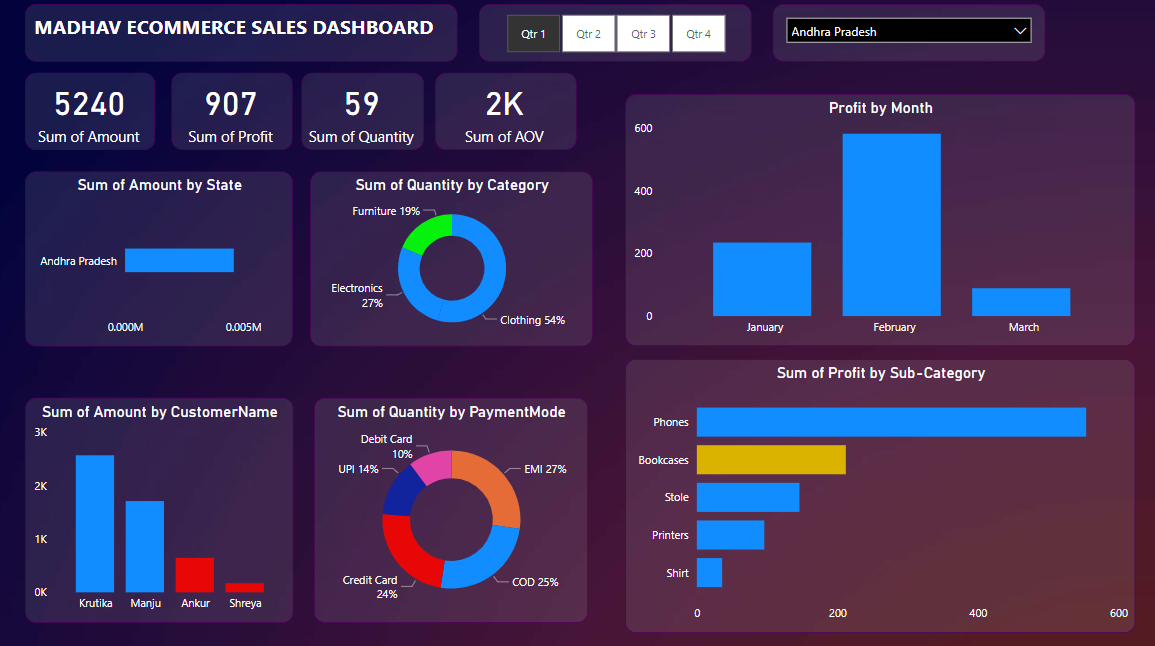

The dashboard page shown, as its layout file describes it:
{"tool":"powerbi","page":{"name":"Page 1","canvas":[1280,720],"ordinal":0},"visuals":[{"type":"textbox","box":[34.3,11,474.8,63.1],"z":0},{"type":"columnChart","title":"Profit by Month","fields":{"Y":["Details.Profit"],"Category":["Orders.Order Date.Variation.Date Hierarchy.Month"]},"box":[693,109.8,559.9,277.2],"z":1000},{"type":"barChart","fields":{"Category":["Details.Sub-Category"],"Y":["Details.Profit"]},"box":[693,400.7,559.9,300.5],"z":2000},{"type":"donutChart","fields":{"Y":["Details.Quantity"],"Category":["Details.Category"]},"box":[347.2,194.9,310.1,192.1],"z":3000},{"type":"donutChart","fields":{"Y":["Details.Quantity"],"Category":["Details.PaymentMode"]},"box":[351.3,443.2,300.5,247],"z":4000},{"type":"card","fields":{"Values":["Details.Amount"]},"box":[34.3,86.4,142.7,85.1],"z":5000},{"type":"card","fields":{"Values":["Details.Profit"]},"box":[194.9,86.4,133.1,85.1],"z":6000},{"type":"card","fields":{"Values":["Details.Quantity"]},"box":[337.6,86.4,134.5,85.1],"z":7000},{"type":"card","fields":{"Values":["Details.AOV"]},"box":[484.4,86.4,155.1,85.1],"z":8000},{"type":"barChart","fields":{"Category":["Orders.State"],"Y":["Details.Amount"]},"box":[34.3,194.9,293.7,192.1],"z":9000},{"type":"columnChart","fields":{"Category":["Orders.CustomerName"],"Y":["Details.Amount"]},"box":[34,443,294,247],"z":10000},{"type":"slicer","fields":{"Values":["Orders.Order Date.Variation.Date Hierarchy.Quarter"]},"box":[532.4,11,299.1,63.1],"z":11000},{"type":"slicer","fields":{"Values":["Orders.State"]},"box":[854.9,11,299.1,63.1],"z":12000}]}

Visuals, with their boxes in screenshot pixels (x1, y1, x2, y2), scaled from the page's 1280x720 canvas onto the 1155x646 screenshot:
textbox: (31, 10, 459, 66)
"Profit by Month" columnChart: (625, 99, 1131, 347)
barChart - Details.Sub-Category x Details.Profit: (625, 360, 1131, 629)
donutChart - Details.Quantity x Details.Category: (313, 175, 593, 347)
donutChart - Details.Quantity x Details.PaymentMode: (317, 398, 588, 619)
card - Details.Amount: (31, 78, 160, 154)
card - Details.Profit: (176, 78, 296, 154)
card - Details.Quantity: (305, 78, 426, 154)
card - Details.AOV: (437, 78, 577, 154)
barChart - Orders.State x Details.Amount: (31, 175, 296, 347)
columnChart - Orders.CustomerName x Details.Amount: (31, 397, 296, 619)
slicer - Orders.Order Date.Variation.Date Hierarchy.Quarter: (480, 10, 750, 66)
slicer - Orders.State: (771, 10, 1041, 66)
